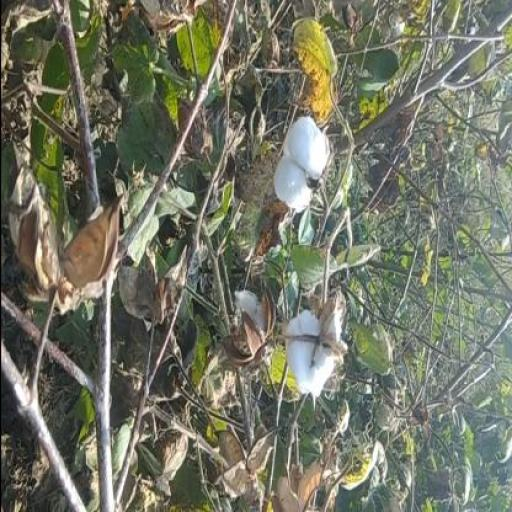cotton_ready: (267, 312, 351, 408), (276, 101, 343, 217)
